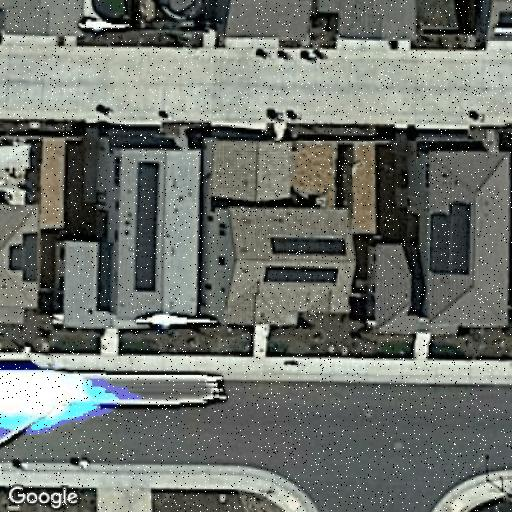solar-panel: (132, 160, 162, 294), (430, 200, 472, 278), (270, 235, 348, 257), (8, 230, 39, 284), (264, 264, 340, 286)
